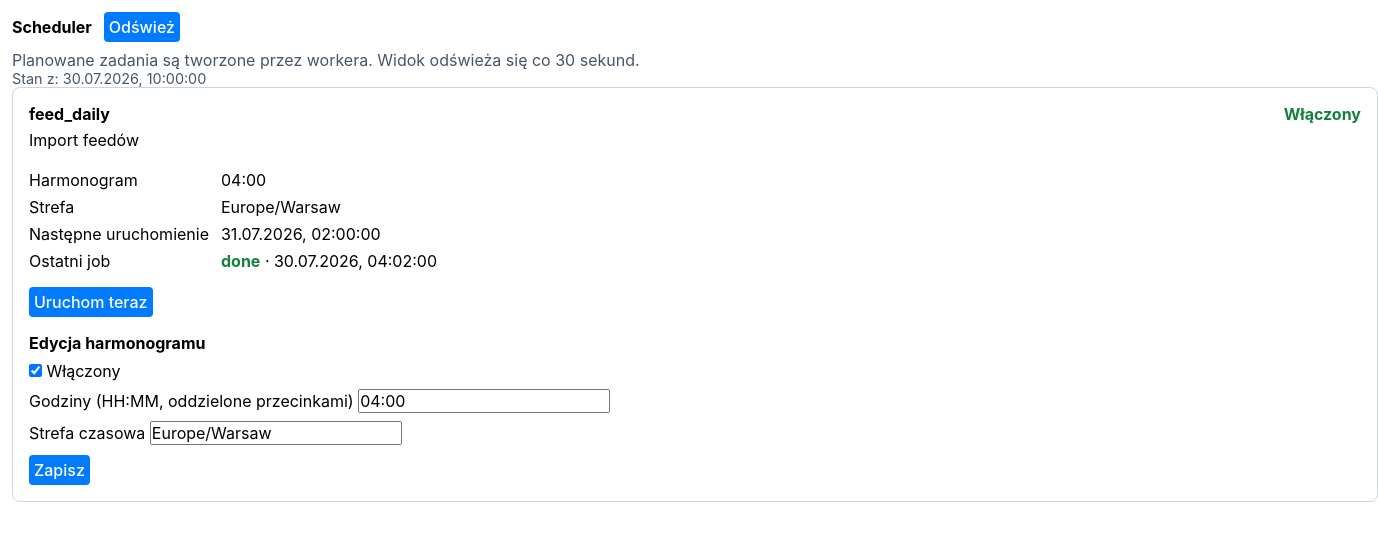
it: Scheduler › lets a service key manually enqueue a scheduled job
This screenshot has width=1378, height=539.
Click the button "Uruchom teraz" at (91, 302), box 29,287 -> 152,317
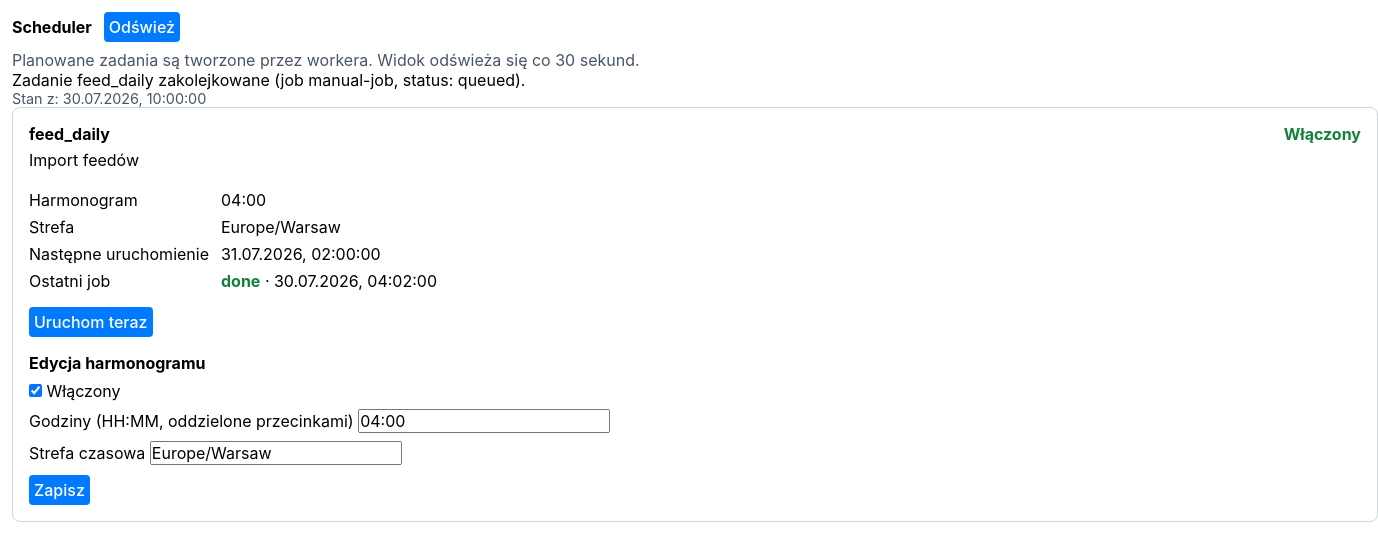
Expected: the text "Zadanie feed_daily zakolejkowane (job manual-job, status: queued)." is shown, 12,70 -> 526,90
